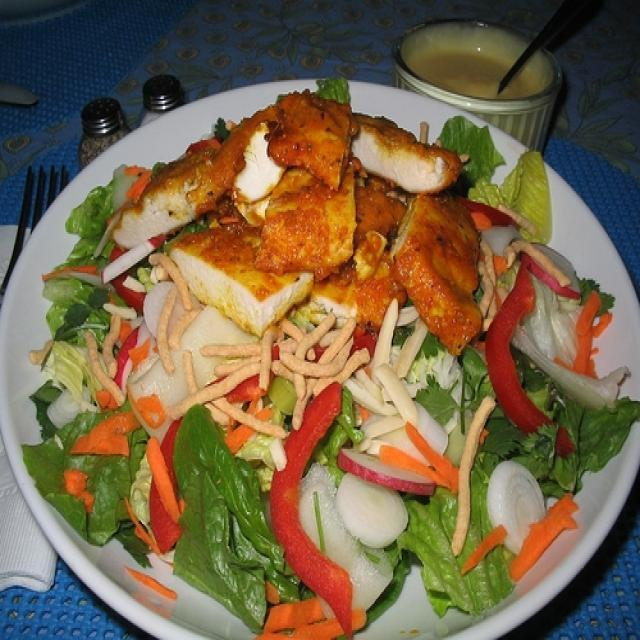鸡肉料理 含炸鸡: (13, 58, 630, 628)
